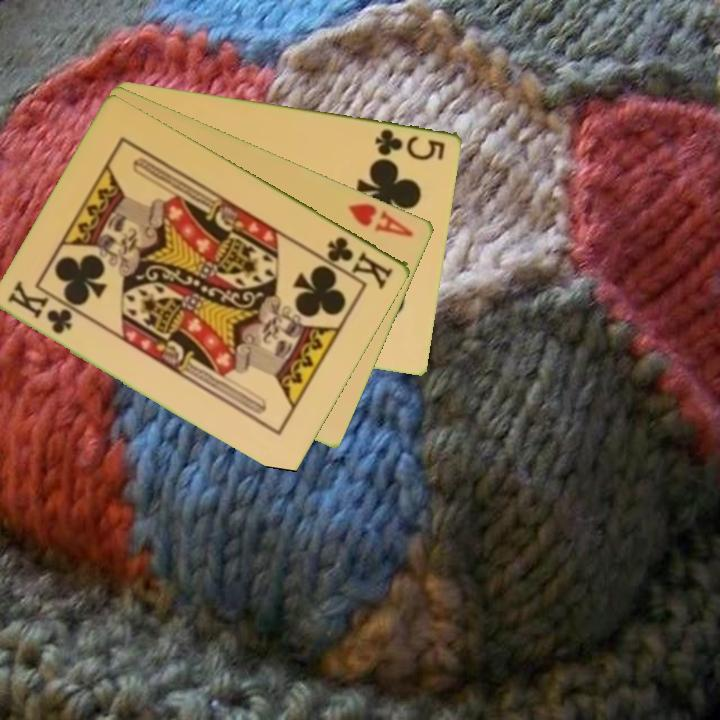5c: (372, 125, 449, 163)
Ah: (344, 199, 417, 240)
Kc: (324, 232, 397, 291), (5, 280, 76, 337)
